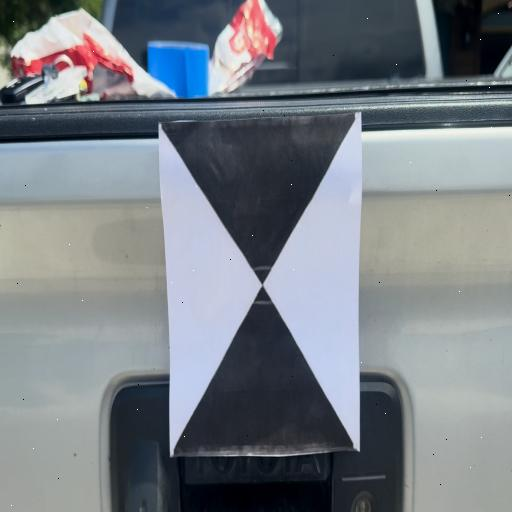target: (168, 122, 360, 449)
